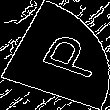P_NW: (15, 28, 95, 82)
